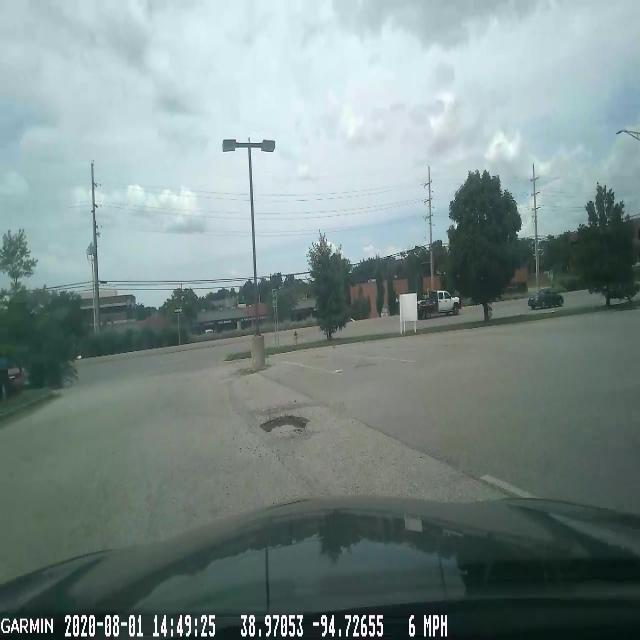Pothole: (251, 406, 321, 446)
